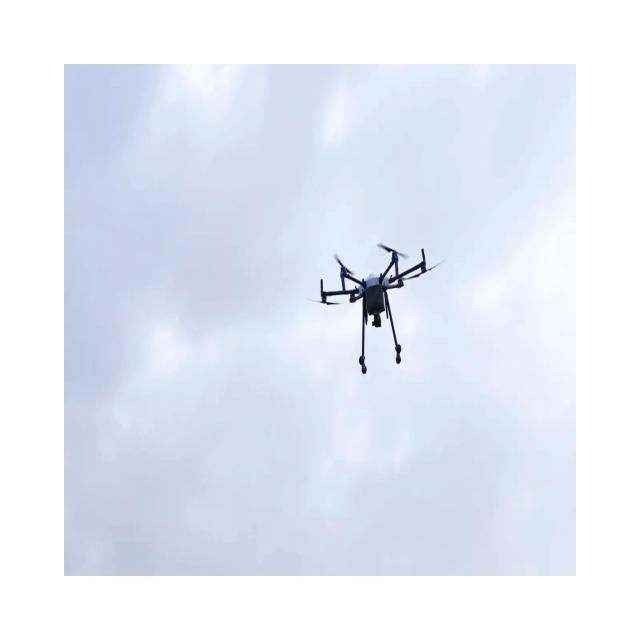drone: (306, 242, 445, 374)
